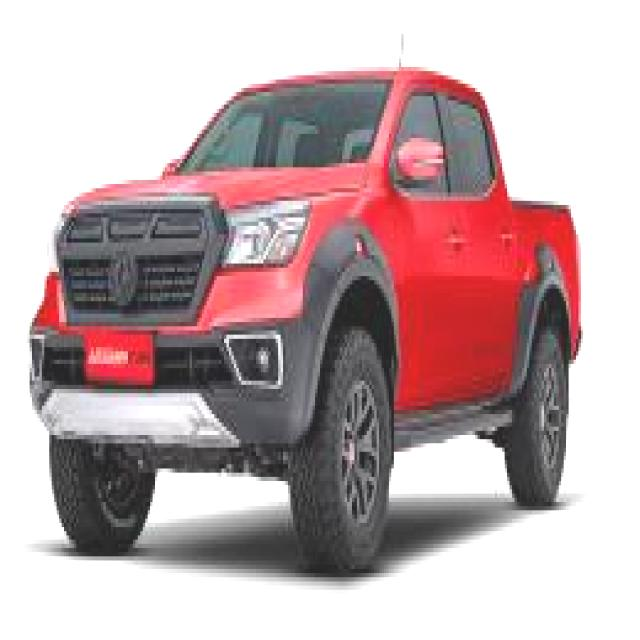CMT: (33, 72, 586, 588)
